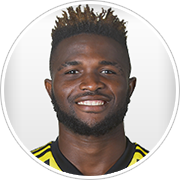smile: (74, 95, 111, 113)
